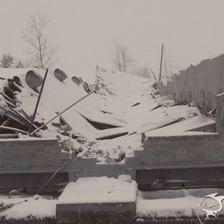Destroyed_Building: (0, 51, 224, 178)
